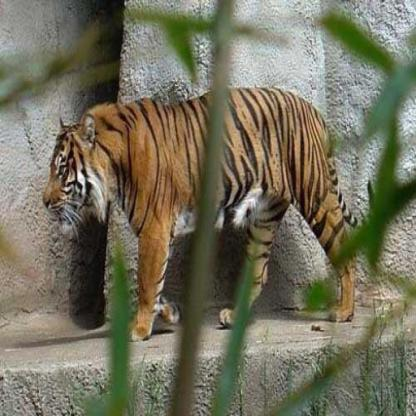Tiger: (32, 77, 380, 341)
